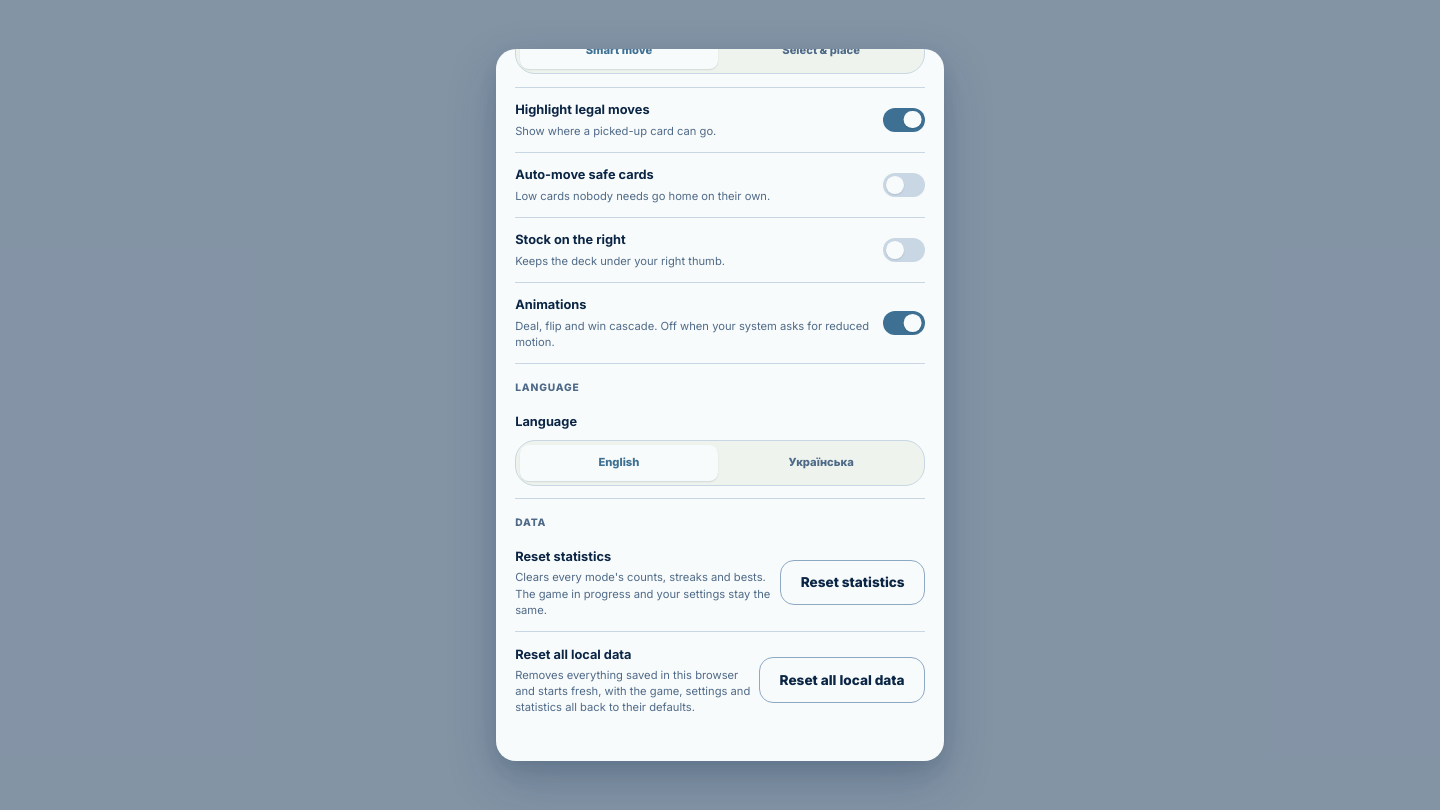
Test: SettingsSheet: Language › choosing Українська re-renders the open sheet heading and rows at once, and stays open
(page scrolled)
What coordinates should you click on to do the following:
click the radio button labelled "Українська"
I would click on:
 (821, 463)
Its box is [722,445,920,481].
(page scrolled)
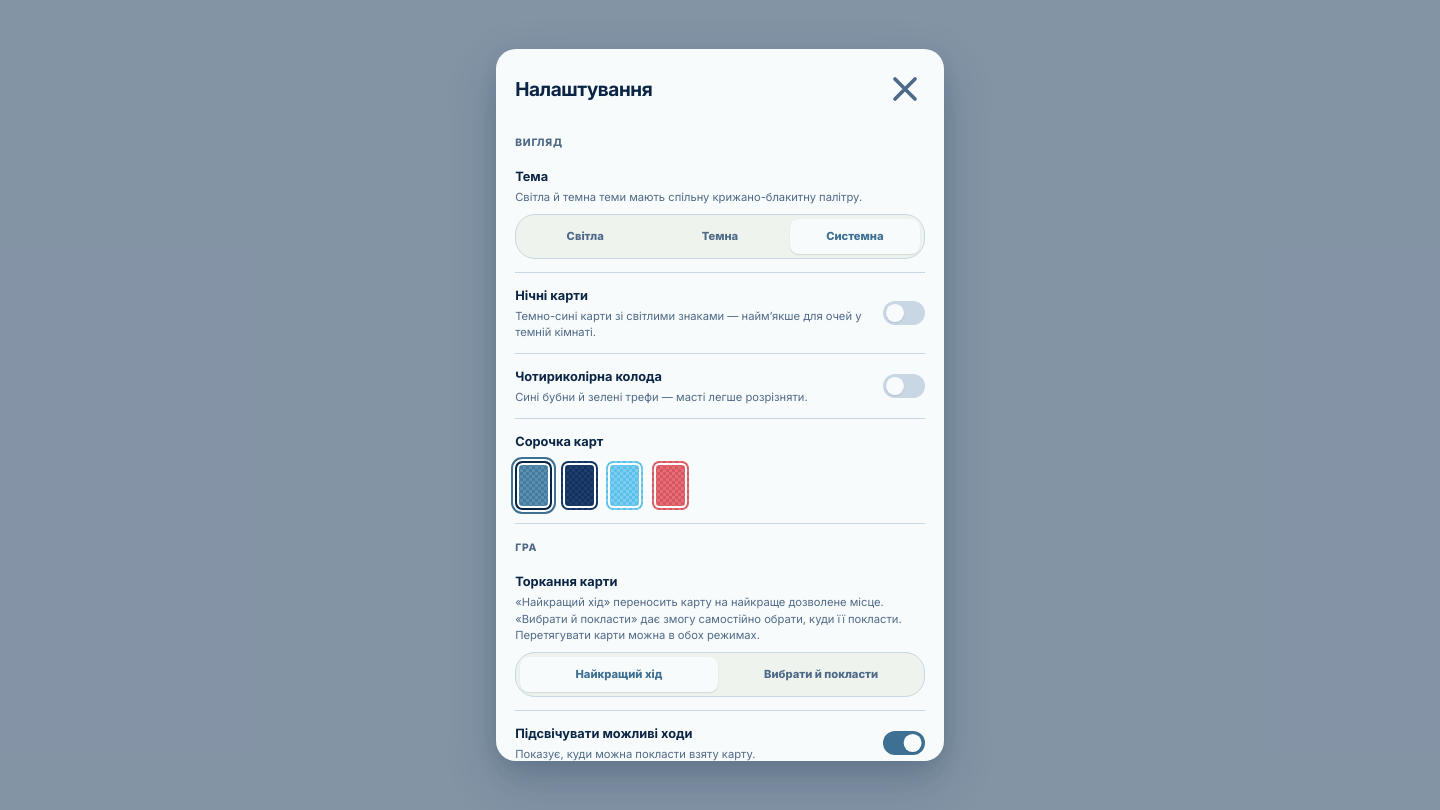
Expected: the dialog "Налаштування" is shown, [496,49,944,761]
Expected: the text "Вигляд" is shown, [515,136,563,148]
Expected: the text "Тема" is shown, [515,169,548,184]
